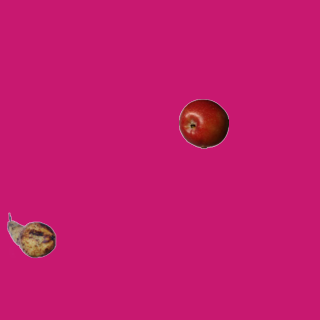Apple Braeburn: (178, 98, 228, 148)
Pear Abate: (6, 210, 56, 260)
